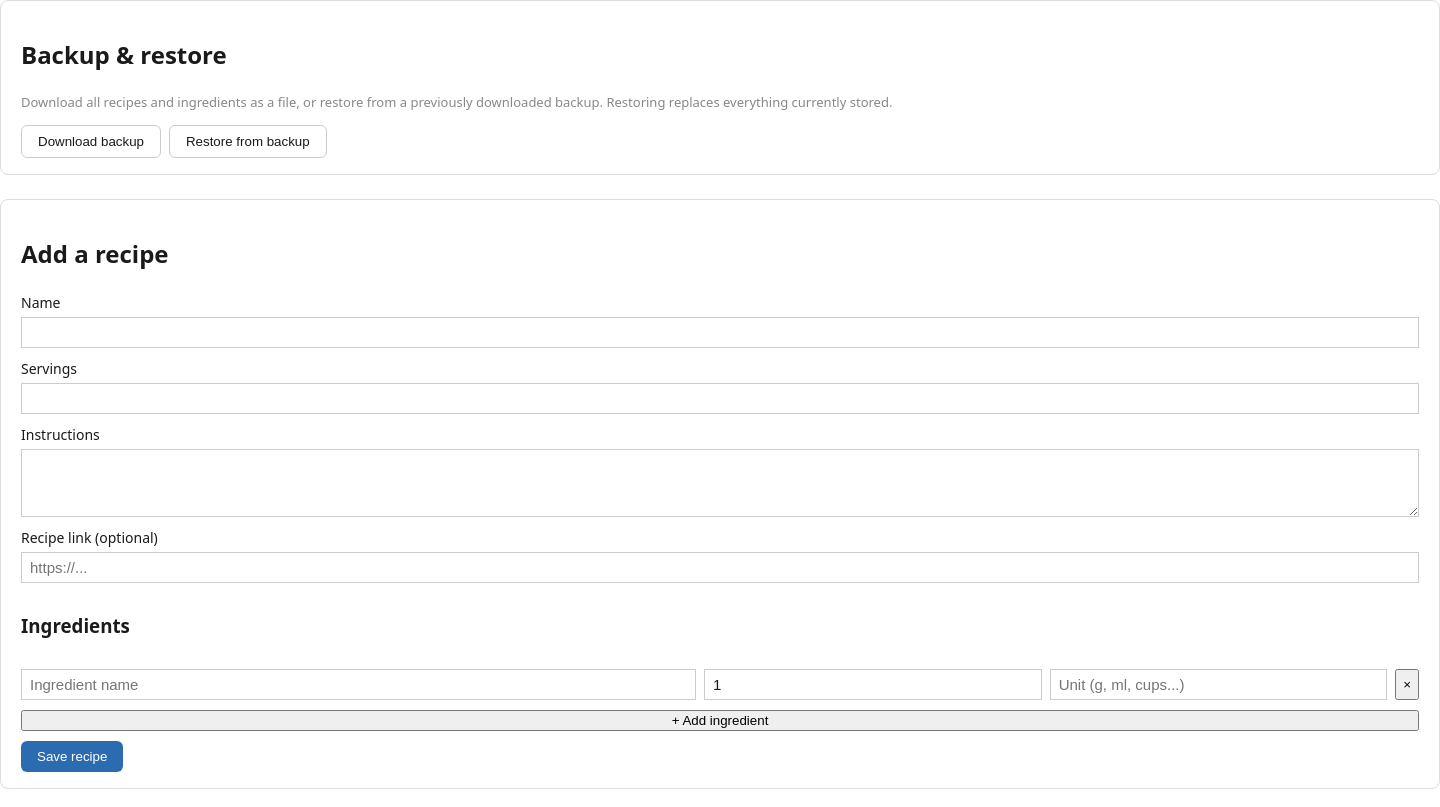
Test: RecipesPage › blocks submission and highlights the row when an ingredient is incomplete
Step 1. Type "Pancakes" into the field labelled "Name" → coordinates (720, 333), box [21, 317, 1419, 348]
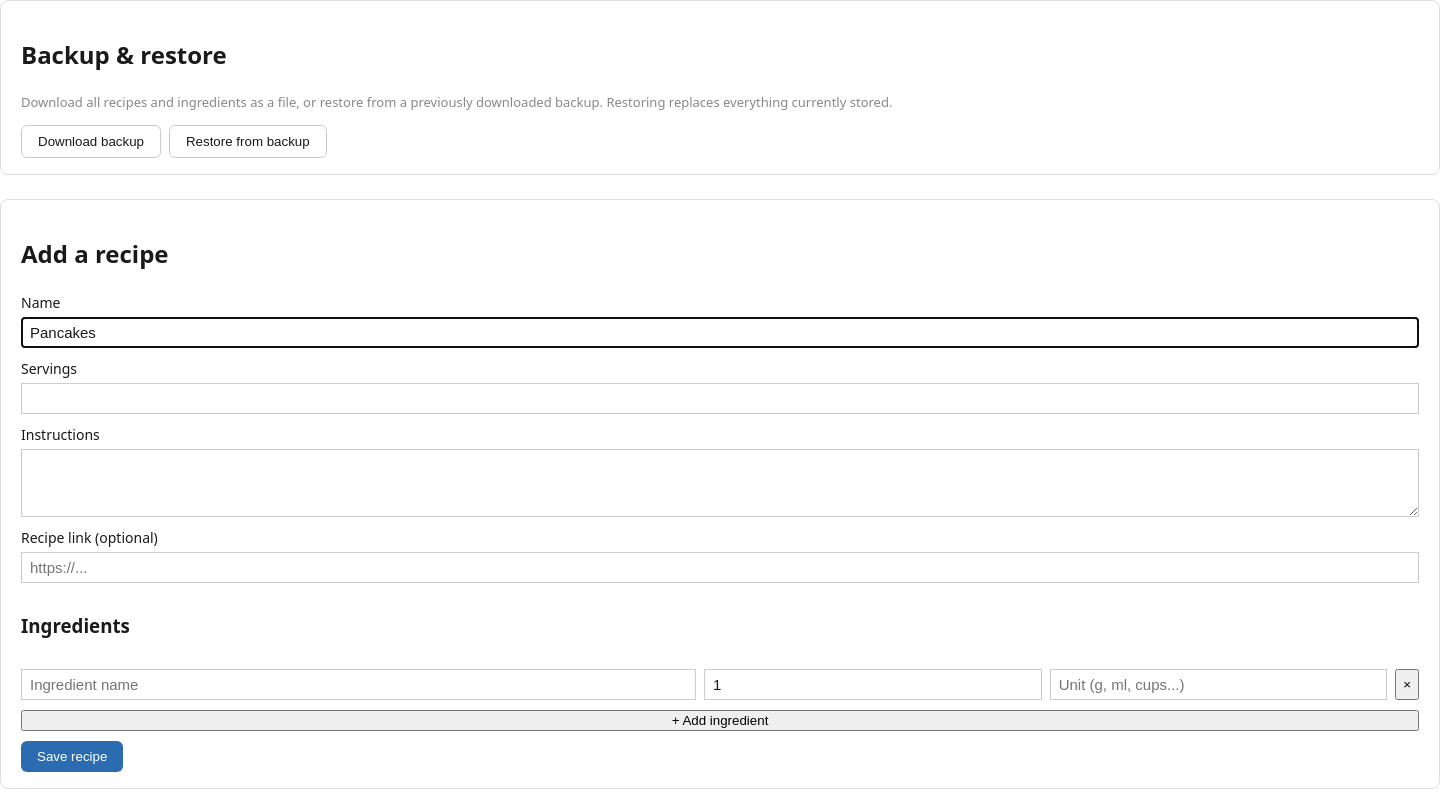
Step 2. Type "Flour" into the dropdown with placeholder "Ingredient name" → coordinates (359, 684), box [21, 669, 696, 700]
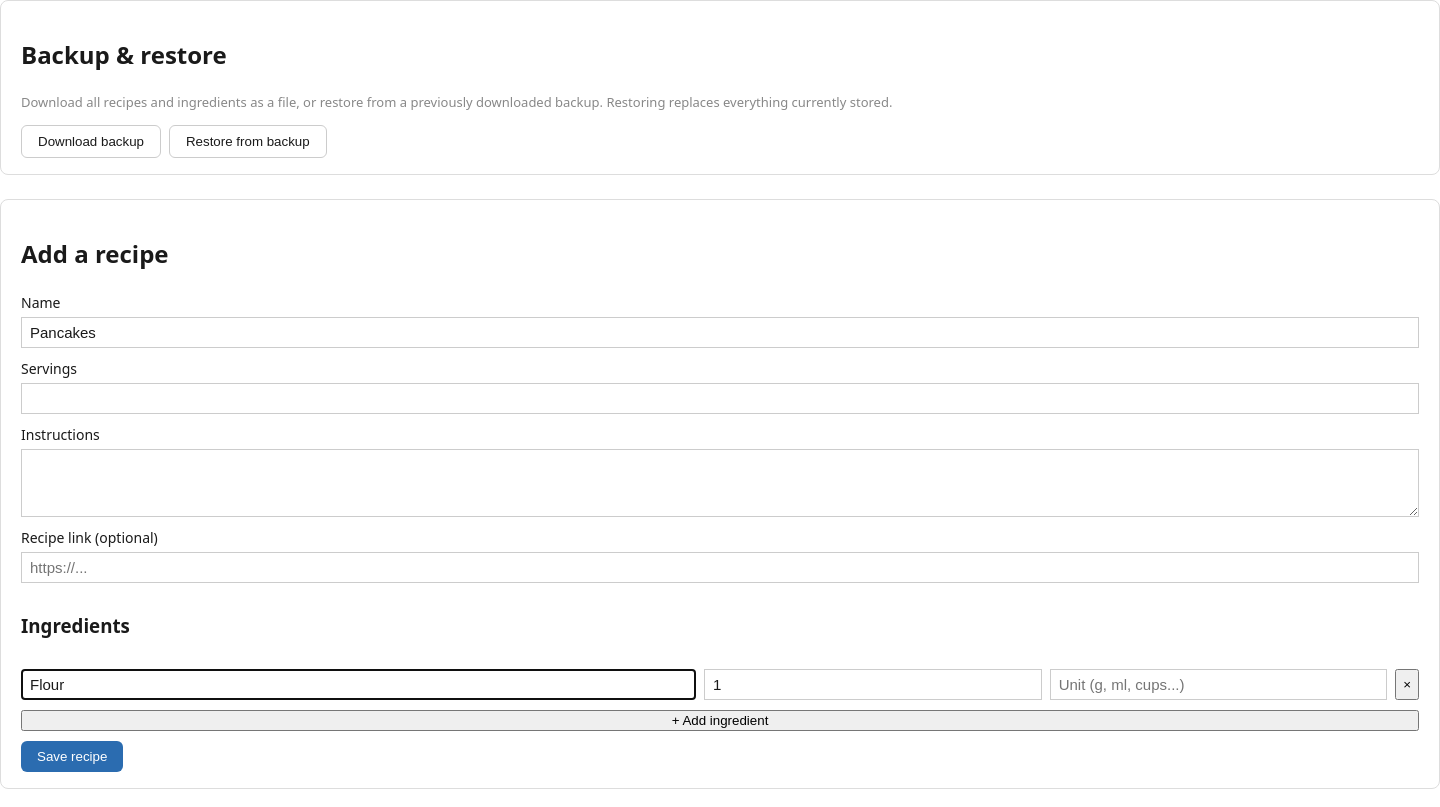
Step 3. Click the button "Save recipe" → coordinates (72, 756), box [21, 741, 123, 772]
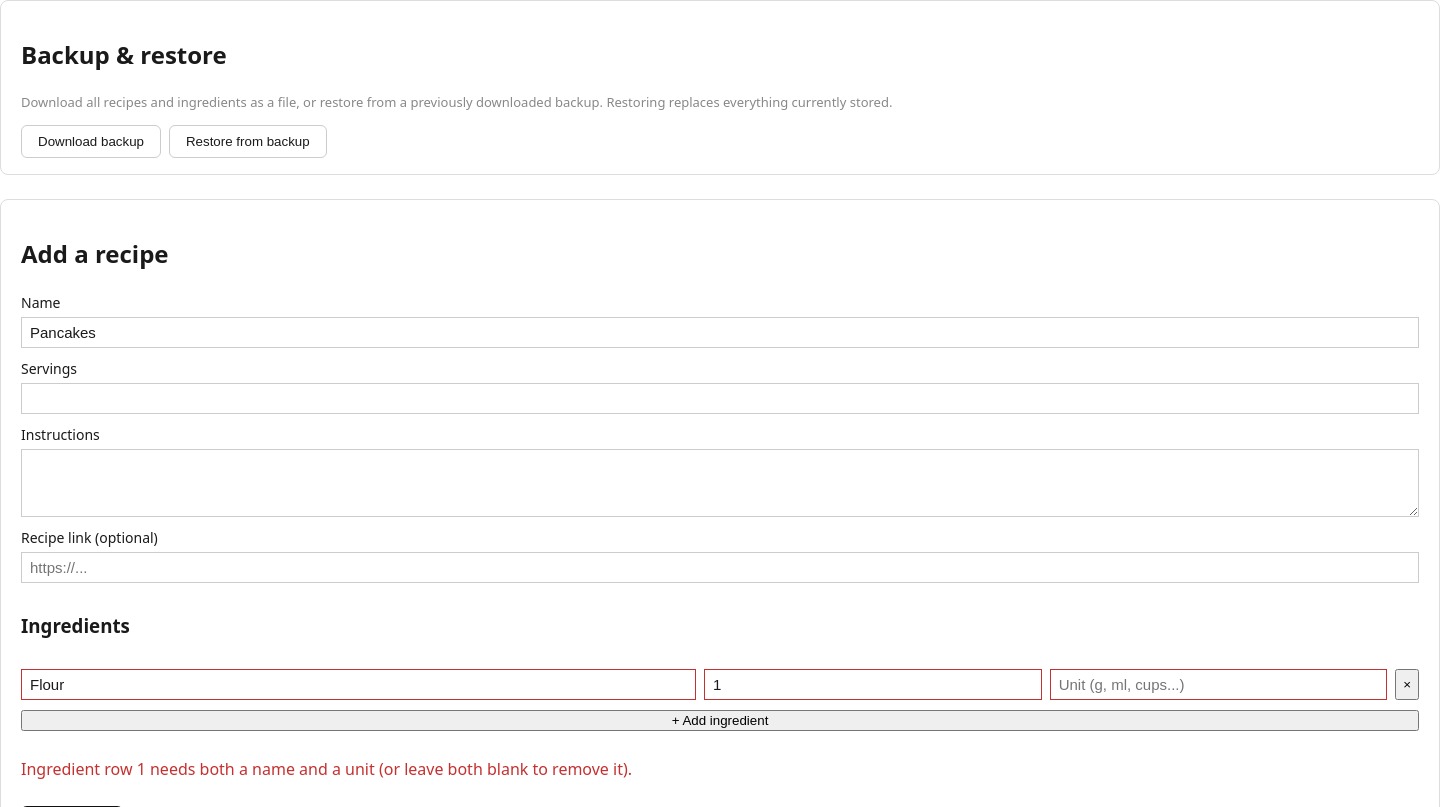
Result: the text "needs both a name and a unit" is shown at [21, 758, 632, 780]
